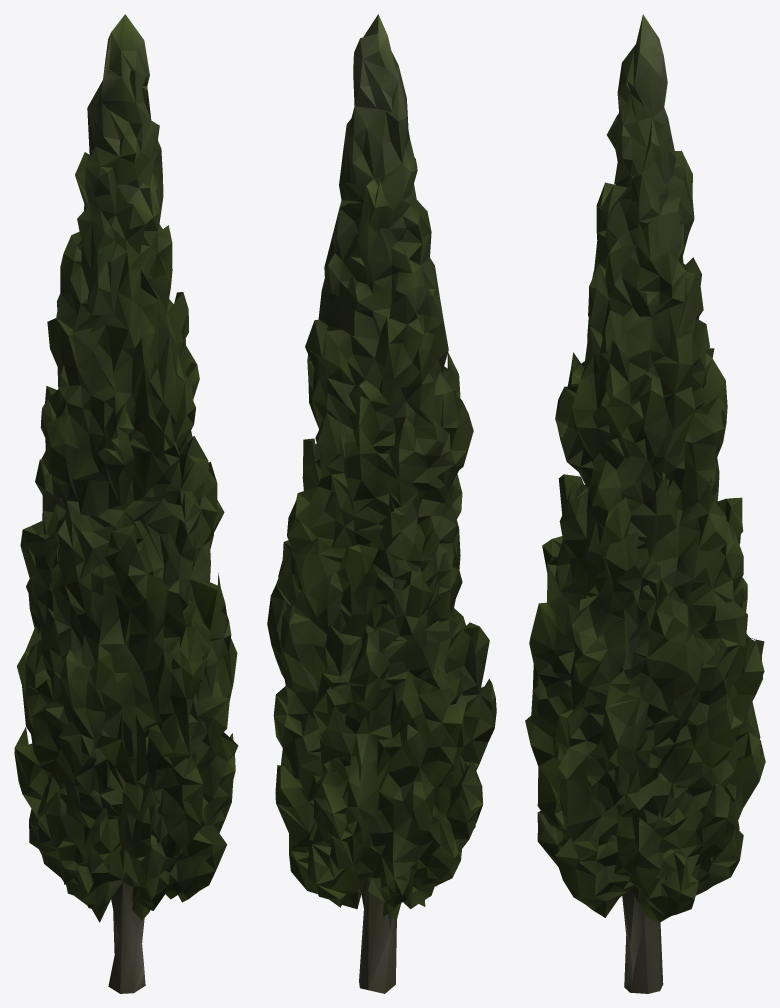
The model's file is lib_tp_bachy.vc.glb.
3 renders of one model, left to right at view 1: azimuth 30°, elevation 25°; view 2: azimuth 150°, elevation 25°; view 3: azimuth 270°, elevation 25°, orthographic.
Parts seen in each view (by area): view 1: lib_tp_bachy; view 2: lib_tp_bachy; view 3: lib_tp_bachy.
Boxes of the visible parts, x1,y1,x2,y2 form: lib_tp_bachy: (14,14,238,993); lib_tp_bachy: (267,14,496,993); lib_tp_bachy: (525,14,765,993).
Size of the model in its own units: 0.4093 by 1.99 by 0.4452.
